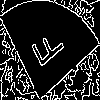F: (25, 25, 66, 75)
